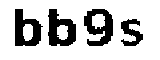9: (82, 4, 117, 49)
b: (8, 6, 42, 48), (47, 9, 78, 48)
s: (120, 14, 147, 48)
